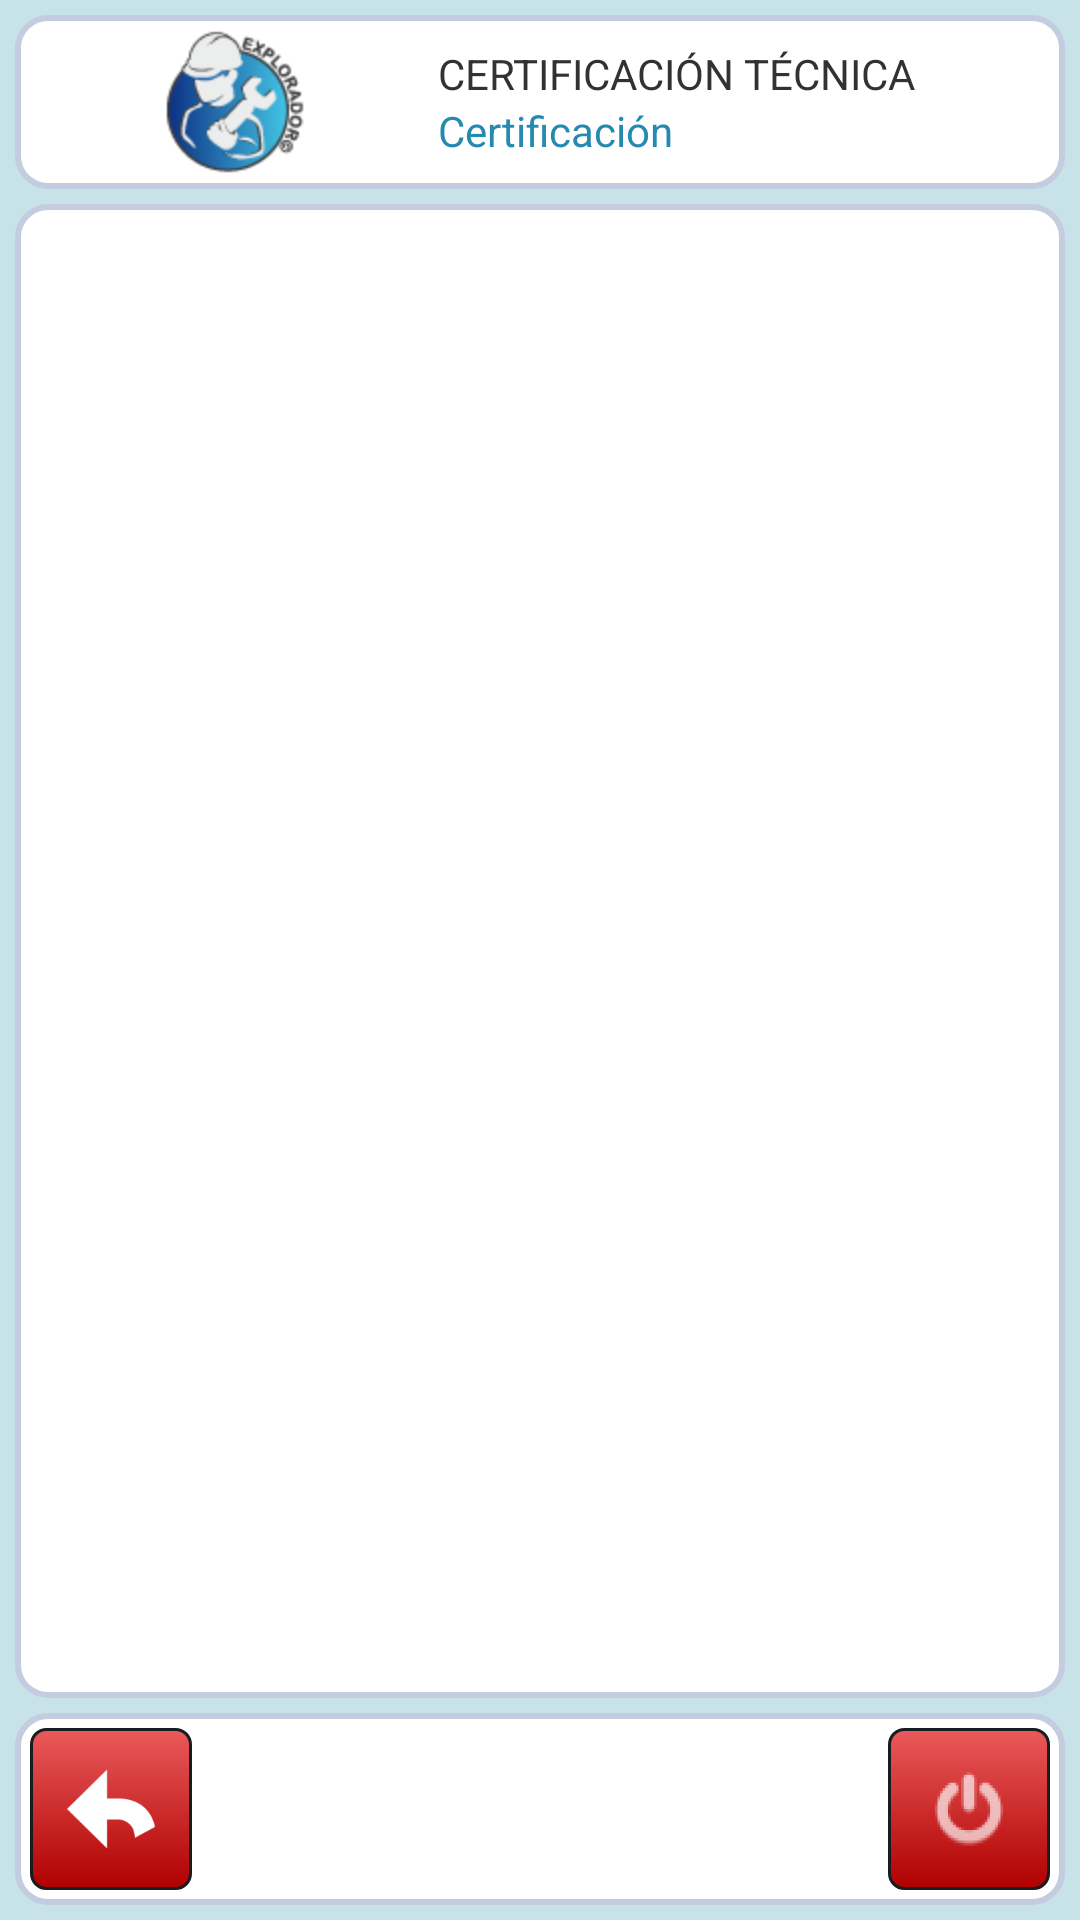

Screen size 1080×1920. Icon name, then its center in pixels as (x,y):
back: (111,1809)
shutdown: (969,1809)
